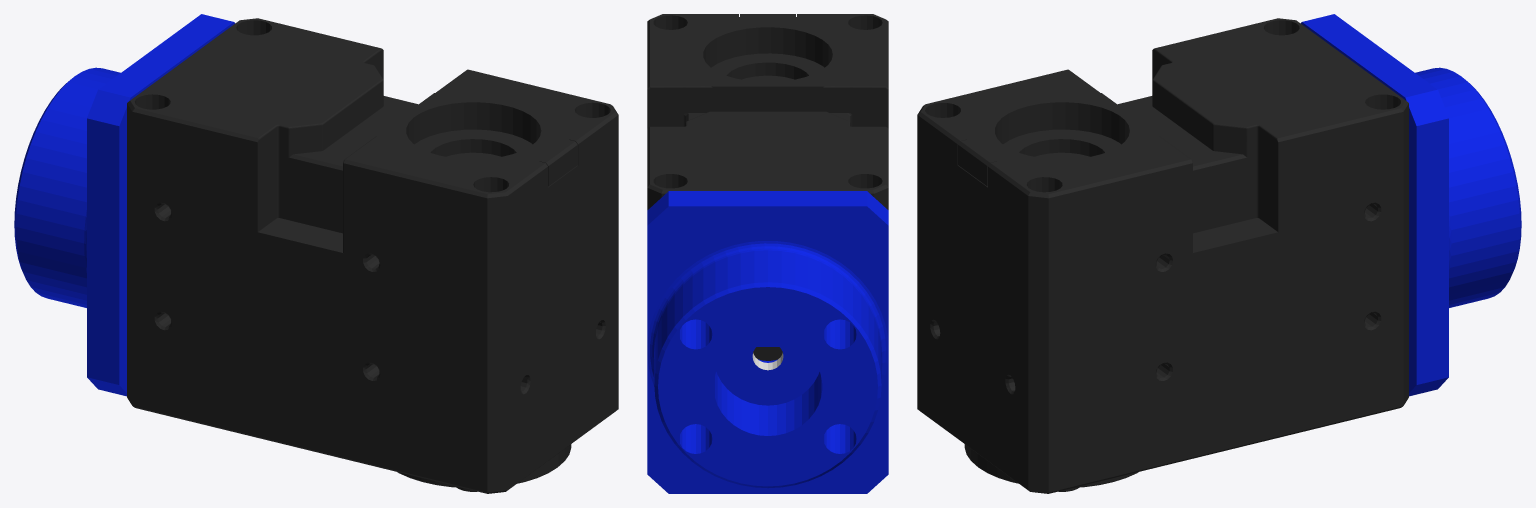
The picture shows the model from 3 angles, left to right: view 1: azimuth 30°, elevation 25°; view 2: azimuth 150°, elevation 25°; view 3: azimuth 270°, elevation 25°; orthographic projection. The views are drawn at different scales.
Parts seen in each view (by area): view 1: tmp_export_link_4.003; view 2: tmp_export_link_4.003; view 3: tmp_export_link_4.003.
Part boxes in pixels (x1,y1,x2,y2): tmp_export_link_4.003: (14, 14, 618, 493); tmp_export_link_4.003: (647, 14, 888, 493); tmp_export_link_4.003: (917, 14, 1521, 493).
Size of the model in its own units: 64.65 by 80.38 by 51.8.
